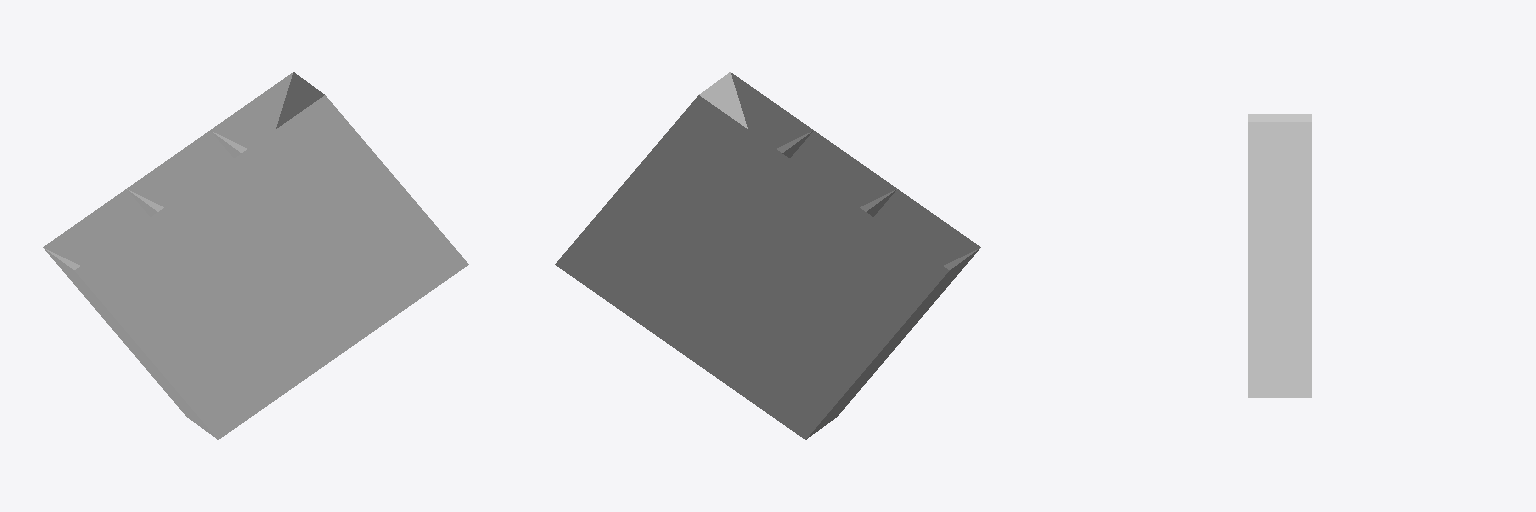
File: 3d_Felwood-Creek 08.wlw.obj
3 renders of one model, left to right at view 1: azimuth 30°, elevation 25°; view 2: azimuth 150°, elevation 25°; view 3: azimuth 270°, elevation 25°, orthographic.
Size of the model in its own units: 72.02 by 55.63 by 10.